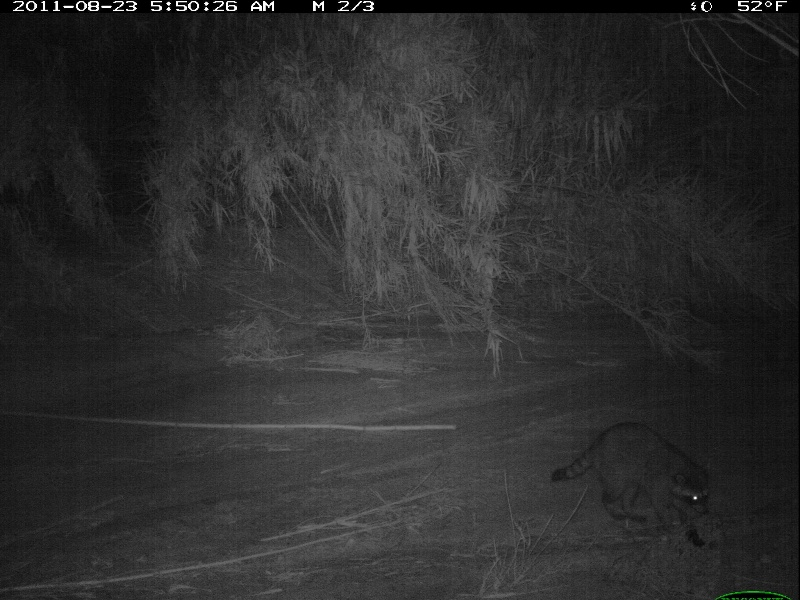raccoon: (549, 422, 722, 548)
